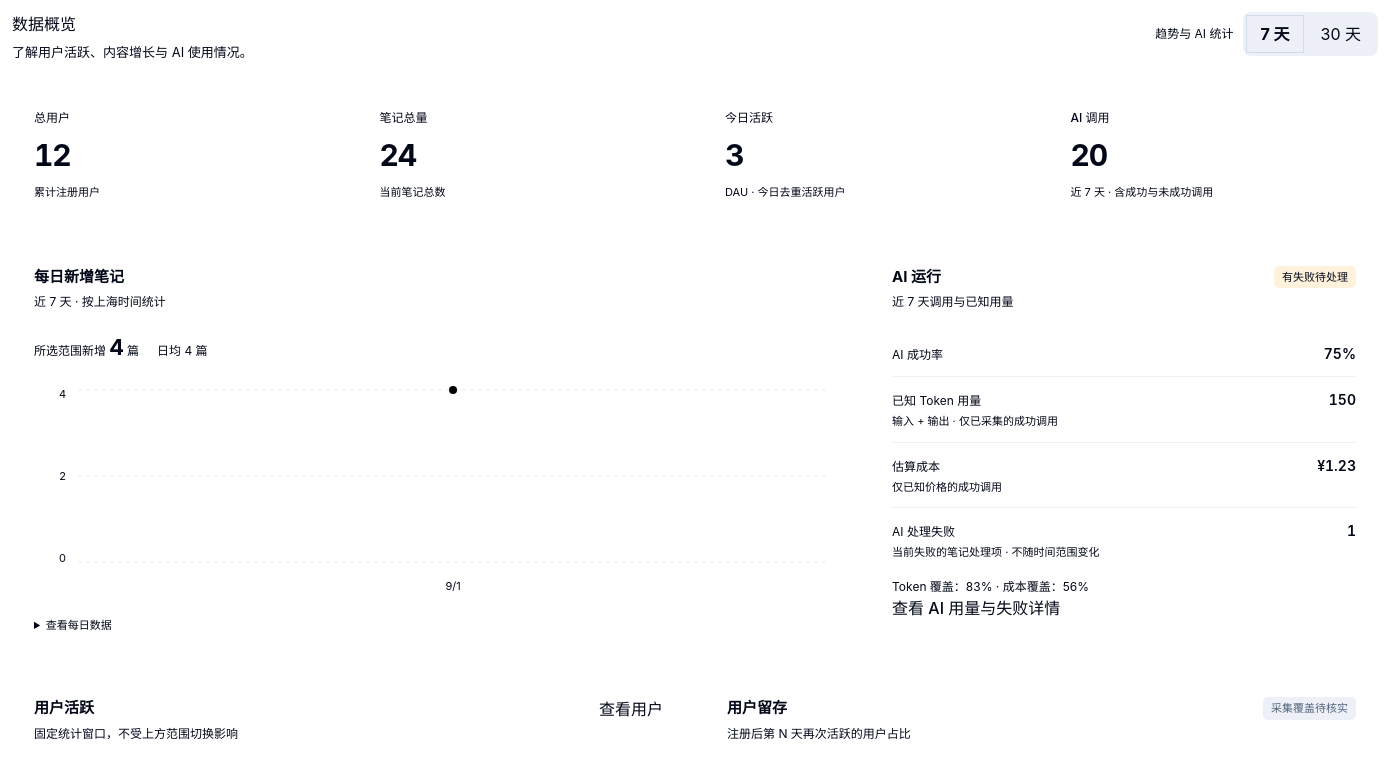
Test: AdminOverviewPage › keeps the latest range result when an older request finishes last
Expected: the text "总用户" is shown, [34,110,70,124]
Click the button "30 天" at (1341, 34), box [1306,15,1375,53]
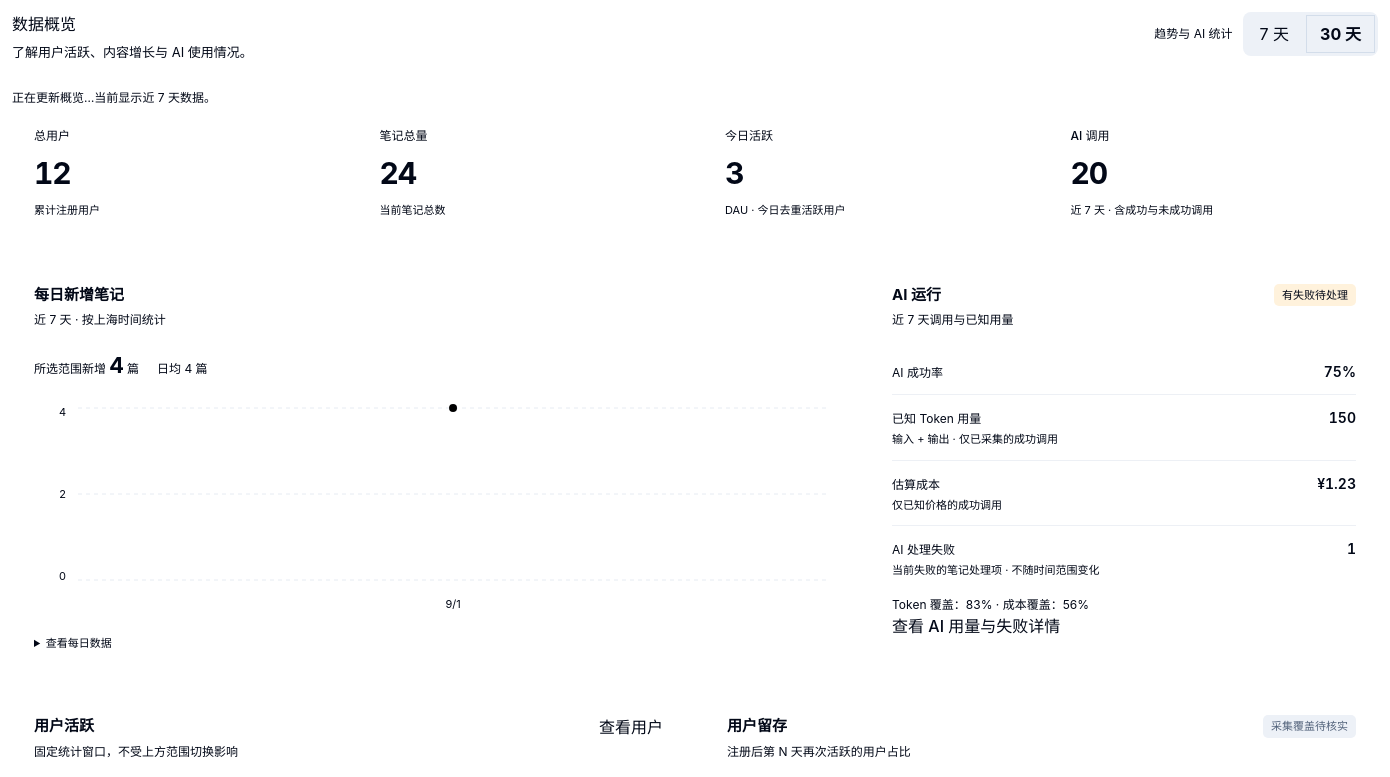
Click the button "7 天" at (1274, 34), box [1246,15,1303,53]
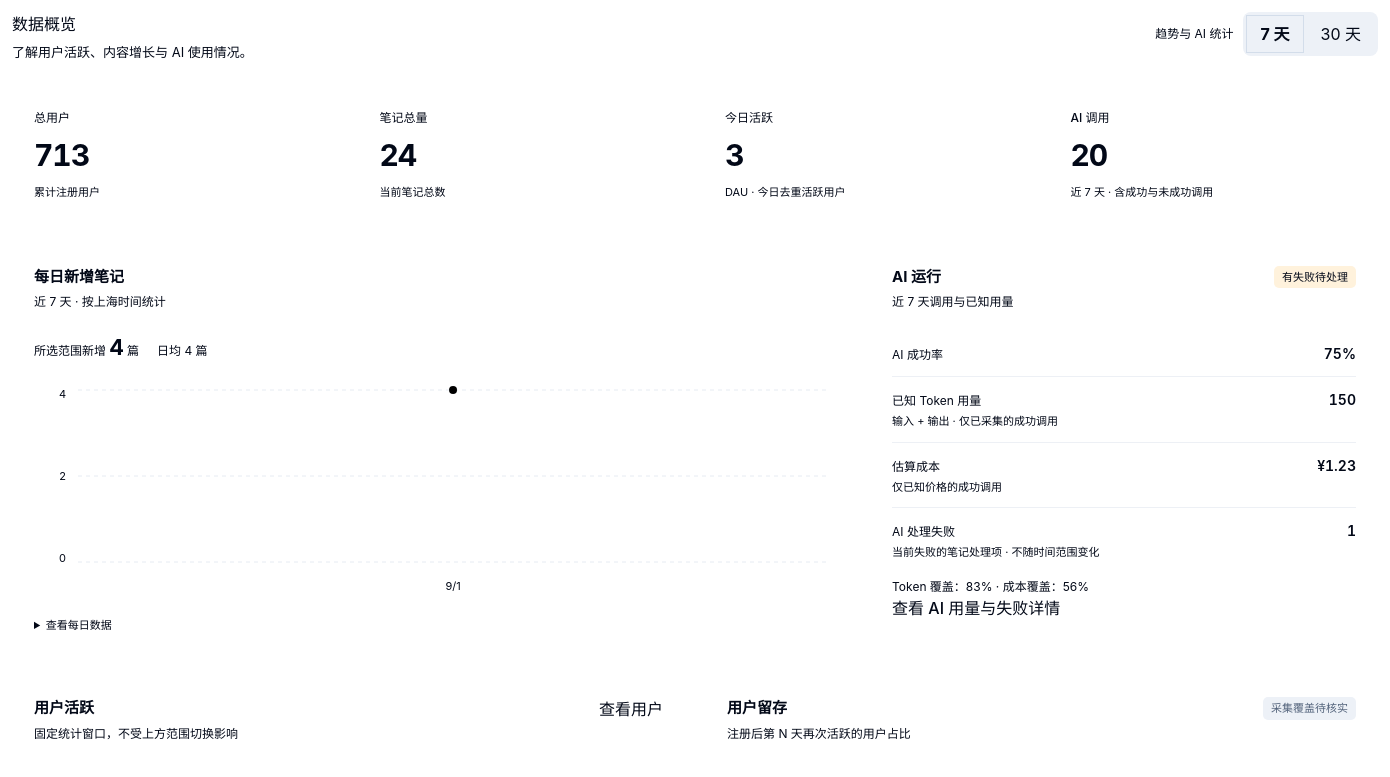
Expected: the text "713" is shown, [34,136,89,172]
